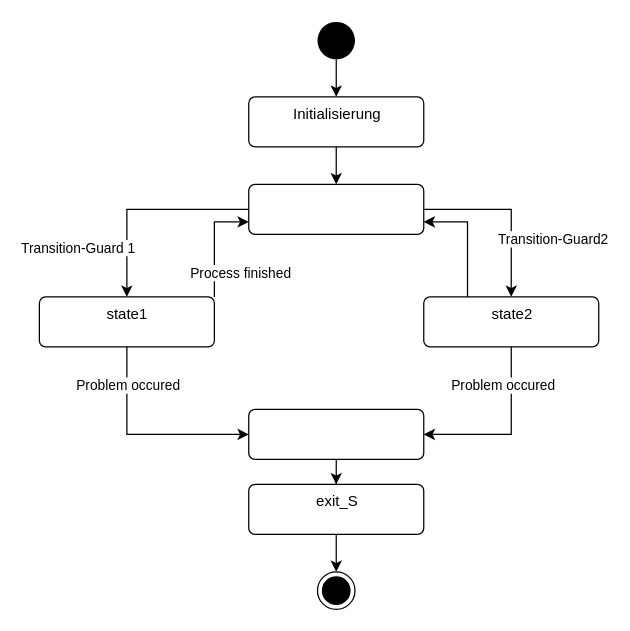
Some shapes in this 630 by 631 pixel diagram are drawn without their labels. The centre of each missing label's shape, as x and y in pixels:
"idle_S" belongs at (336,208).
"panic_S" belongs at (336,433).
